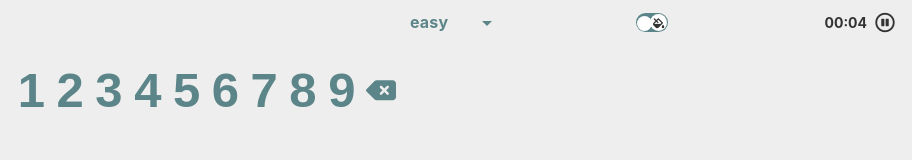
Scenario: GameBoard › timer › should switch between pause/play icons when clicked
The width and height of the screenshot is (912, 160).
Click the icon with test id "pause-icon" at (885, 22), box [875, 12, 895, 32]
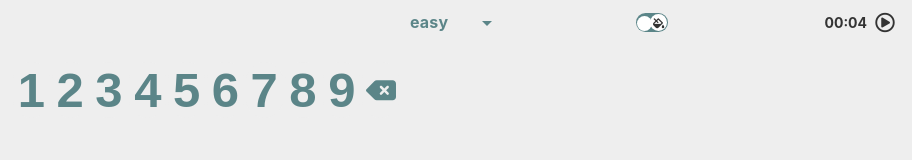
Check: the icon with test id "play-icon" is shown
Click the icon with test id "play-icon" at (885, 22), box [875, 12, 895, 32]
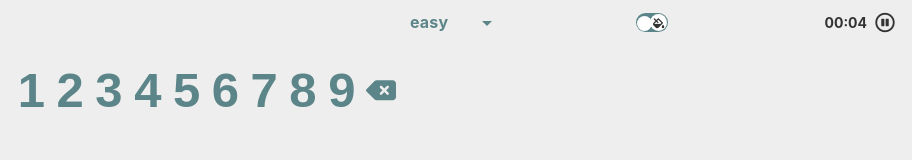
Check: the icon with test id "pause-icon" is shown, box [875, 12, 895, 32]
